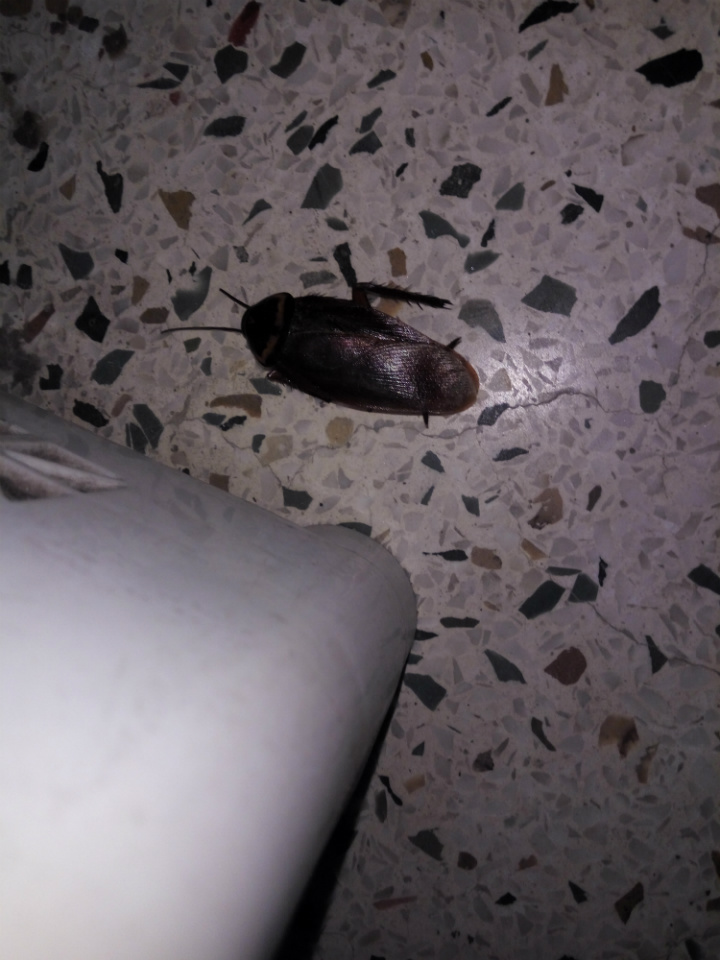cockroach: (96, 213, 547, 450)
